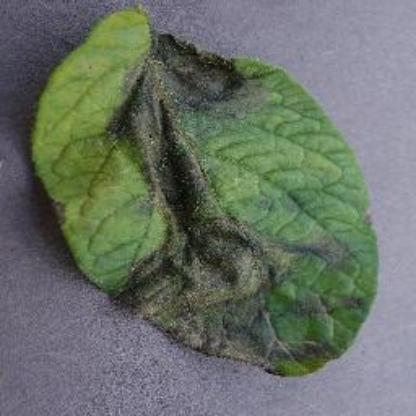Late-Blight: (24, 3, 384, 381)
